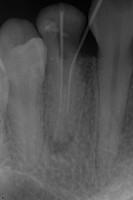Furcation Involvement: (47, 131, 78, 155)
